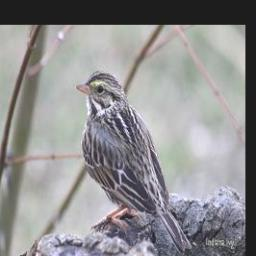Sparrow: (73, 67, 192, 255)
